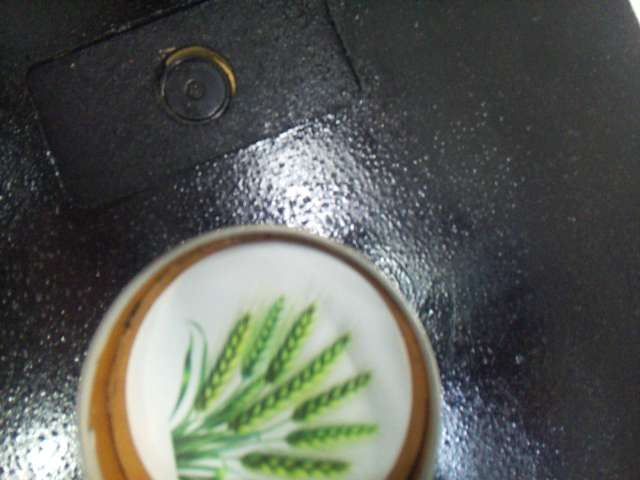wheat_barrel: (159, 281, 387, 477)
